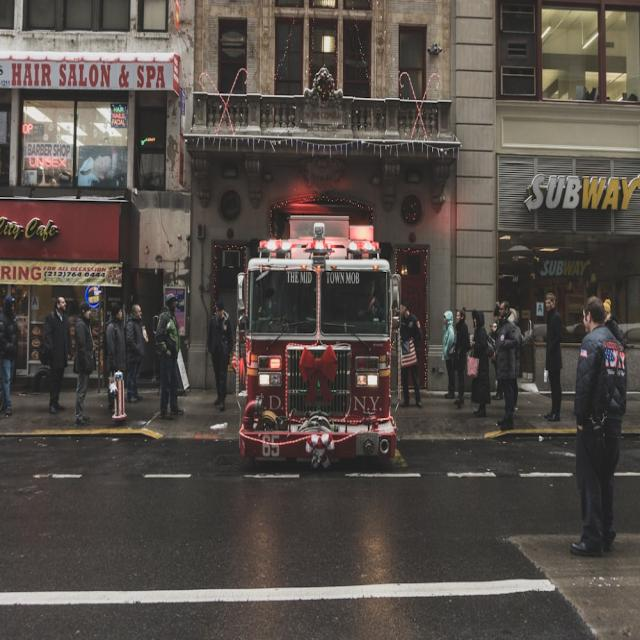emergency: (239, 216, 398, 466)
